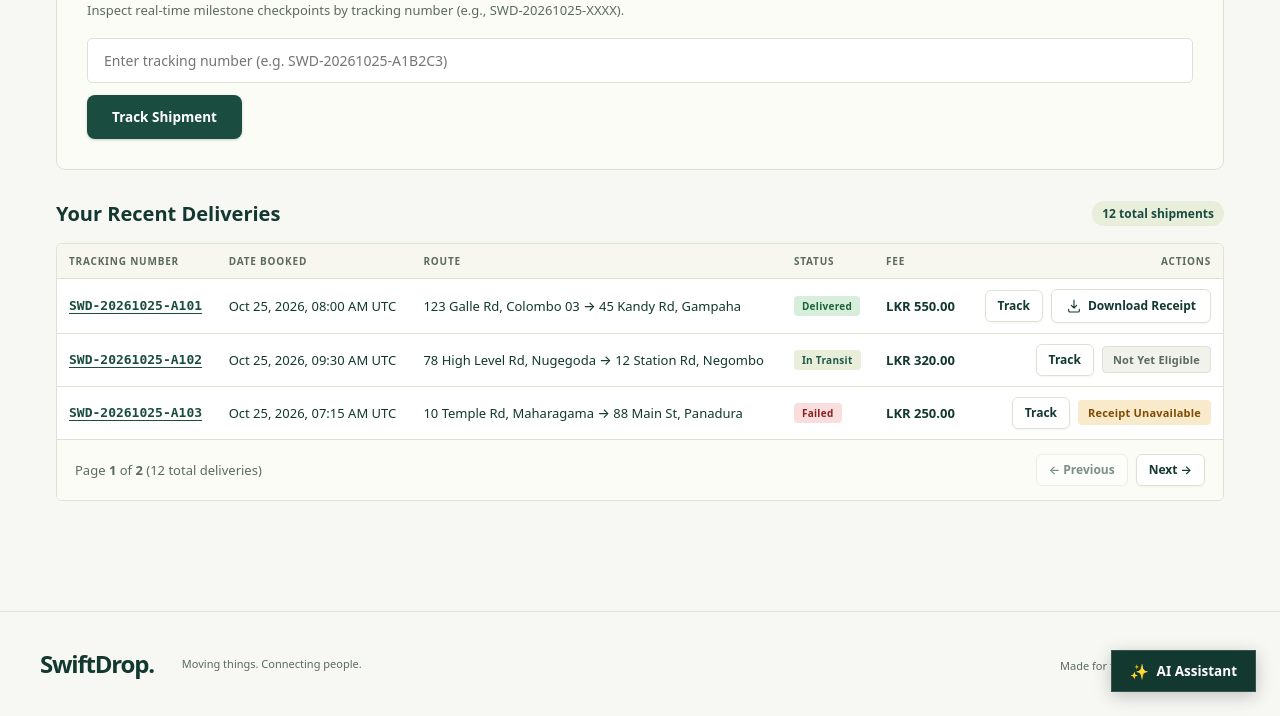
it: Customer History & Tracking View (Issue #27 / LATER-01) › delivery history listing & pagination › handles pagination navigation and requests next page correctly
(page scrolled)
expect the button "SWD-20261025-A101" is shown: met, box x1=69 y1=298 x2=202 y2=313
expect the text "Page 1 of 2 (12 total deliveries)" is shown: met, box x1=75 y1=461 x2=262 y2=479
Click the button with aria-label "next page": click(1170, 470) x1=1136 y1=454 x2=1205 y2=486
(page scrolled)
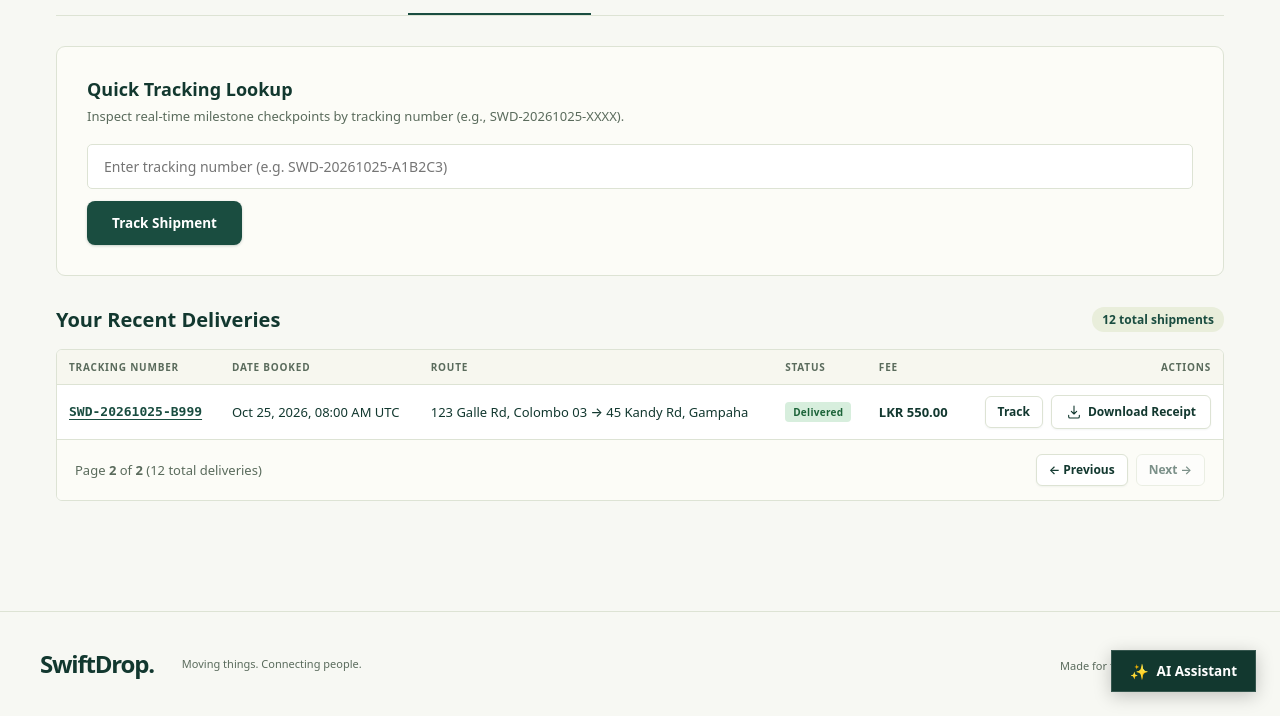
expect the button "SWD-20261025-B999" is shown: met, box x1=69 y1=404 x2=202 y2=419
expect the text "Page 2 of 2 (12 total deliveries)" is shown: met, box x1=75 y1=461 x2=262 y2=479
expect the button with aria-label "next page" is disabled: met, box x1=1136 y1=454 x2=1205 y2=486
